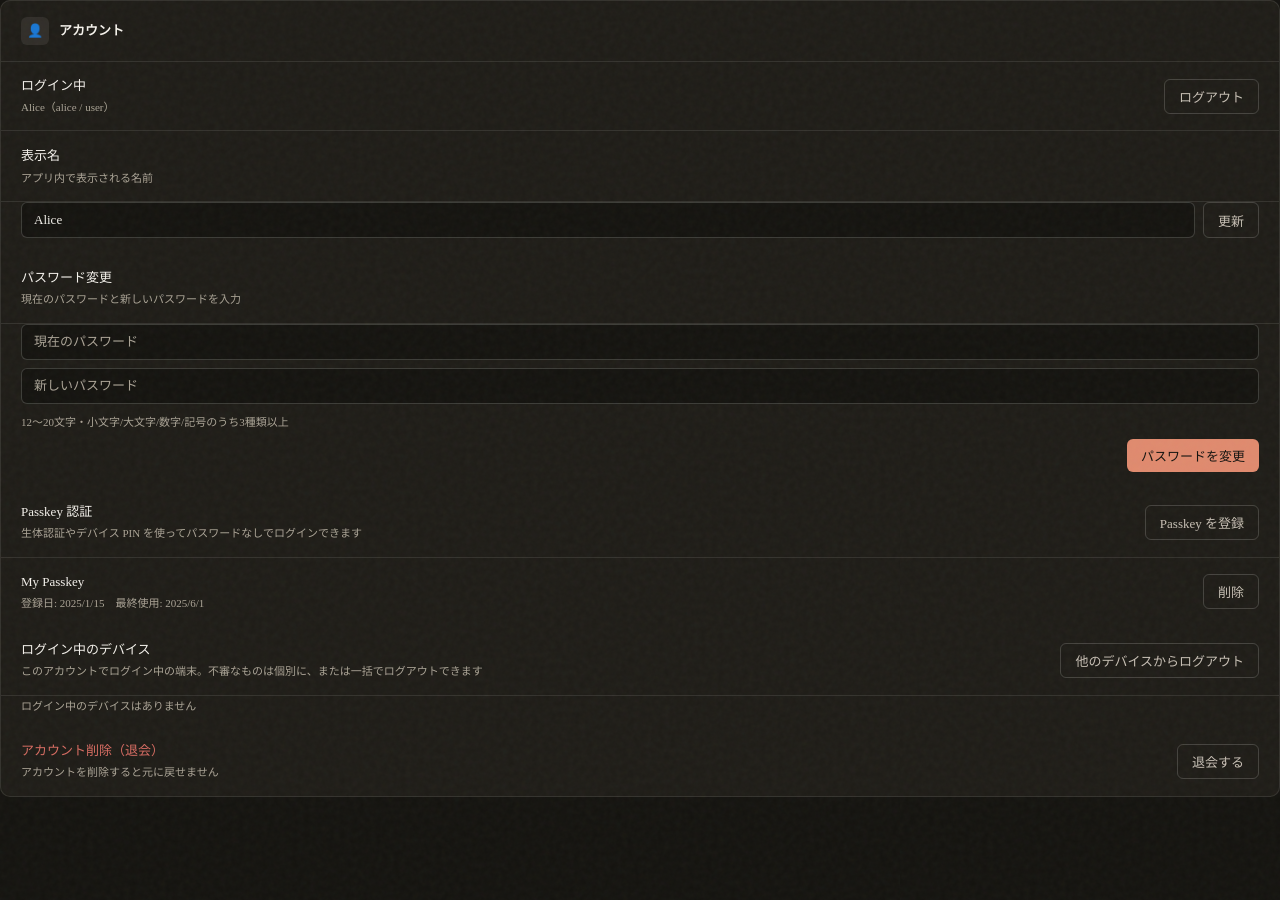
Test case: AccountSection — Passkey 削除 › 削除ボタンをクリックすると確認 UI が表示される
// 削除ボタンをクリック
Click the button "削除": (1231, 592) [1203, 574, 1259, 609]
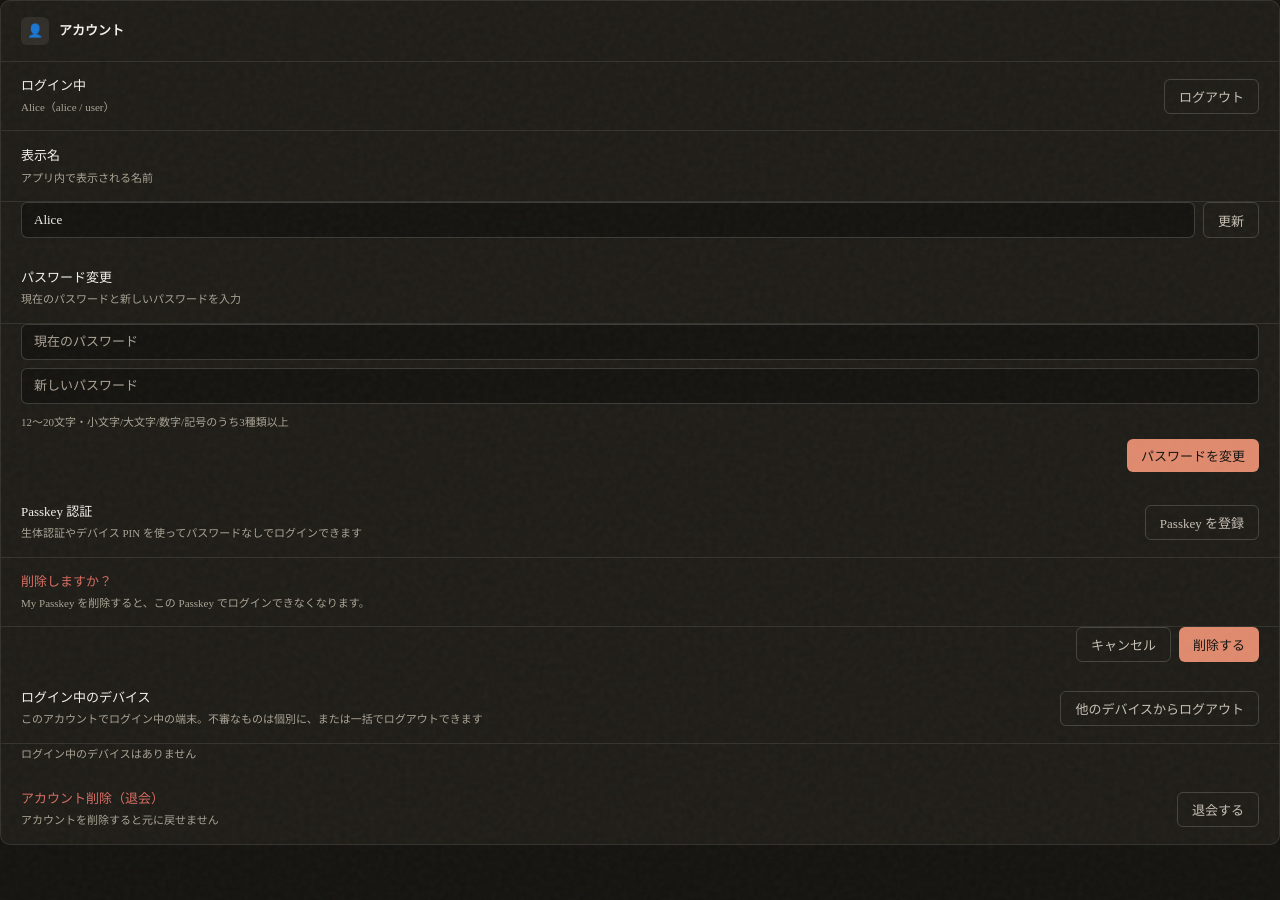
expect the text "削除しますか？" is shown: met, box [21, 574, 112, 589]
